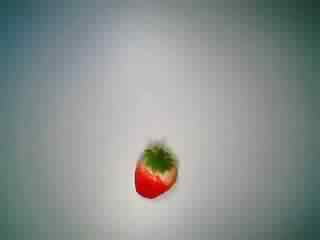strawberry: (119, 141, 187, 205)
